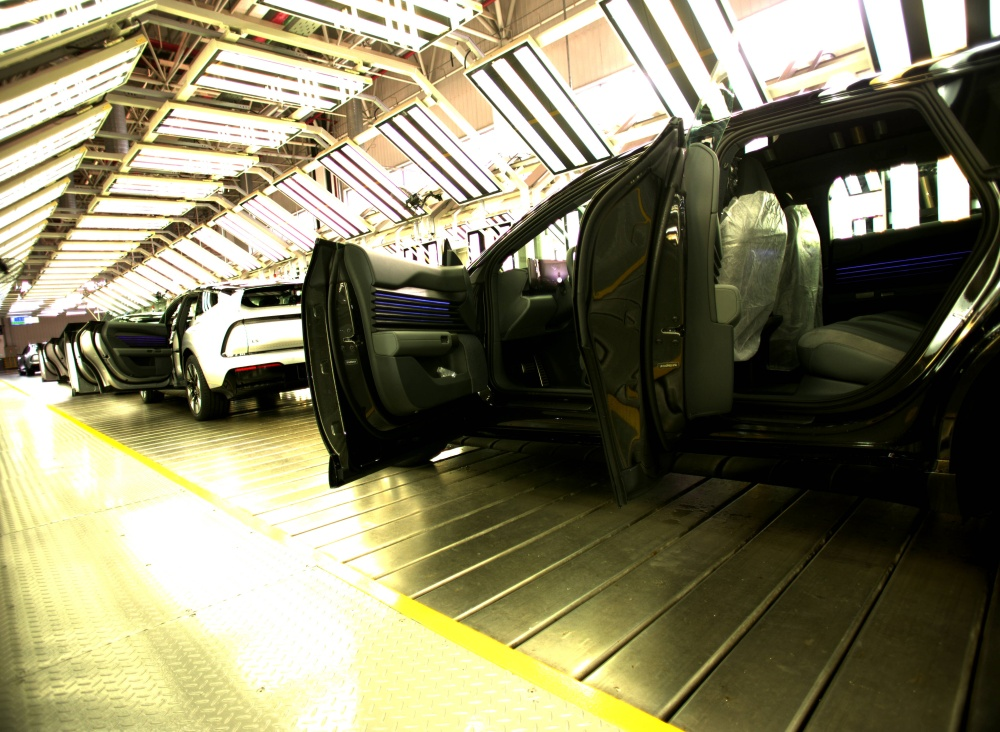armrest_color: (370, 328, 454, 358)
panel_color: (369, 281, 454, 331)
